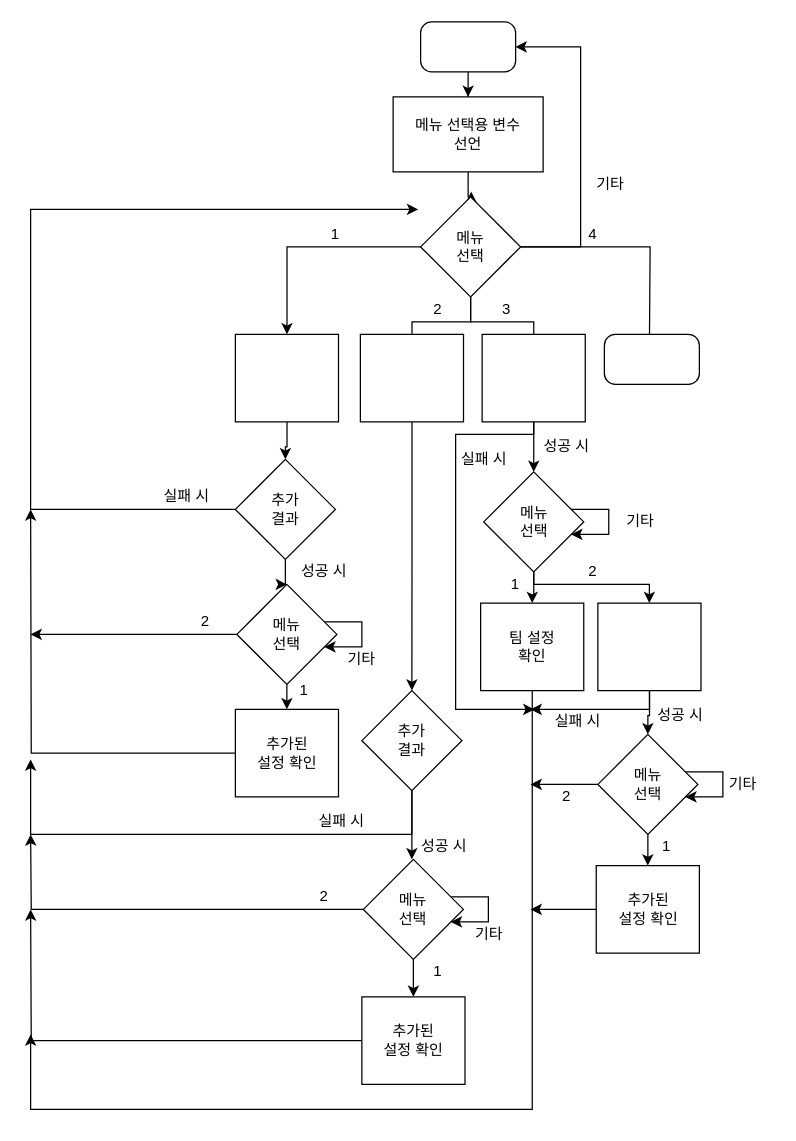
The diagram is 796 pixels wide and 1141 high, and some of its shapes have lost their labels. The shapes that lost their labels are listed below. From the top down, each one's box as (x1, y1, x2, y2) in pixels, then its label:
(419, 21, 516, 72): 시작
(234, 333, 338, 422): 팀 설정 추가 메뉴
(359, 333, 464, 422): 선수 추가 메뉴
(481, 333, 585, 422): 구단 설정 파일 읽기
(603, 333, 699, 384): 종료
(597, 602, 701, 691): 선수 목록 확인
